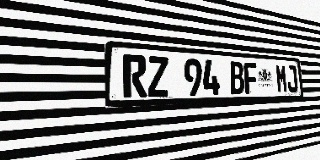4: (202, 59, 220, 95)
9: (184, 58, 203, 96)
B: (229, 61, 245, 94)
F: (243, 62, 258, 94)
J: (286, 65, 298, 93)
M: (275, 64, 288, 93)
R: (123, 54, 147, 98)
Z: (147, 56, 169, 97)
